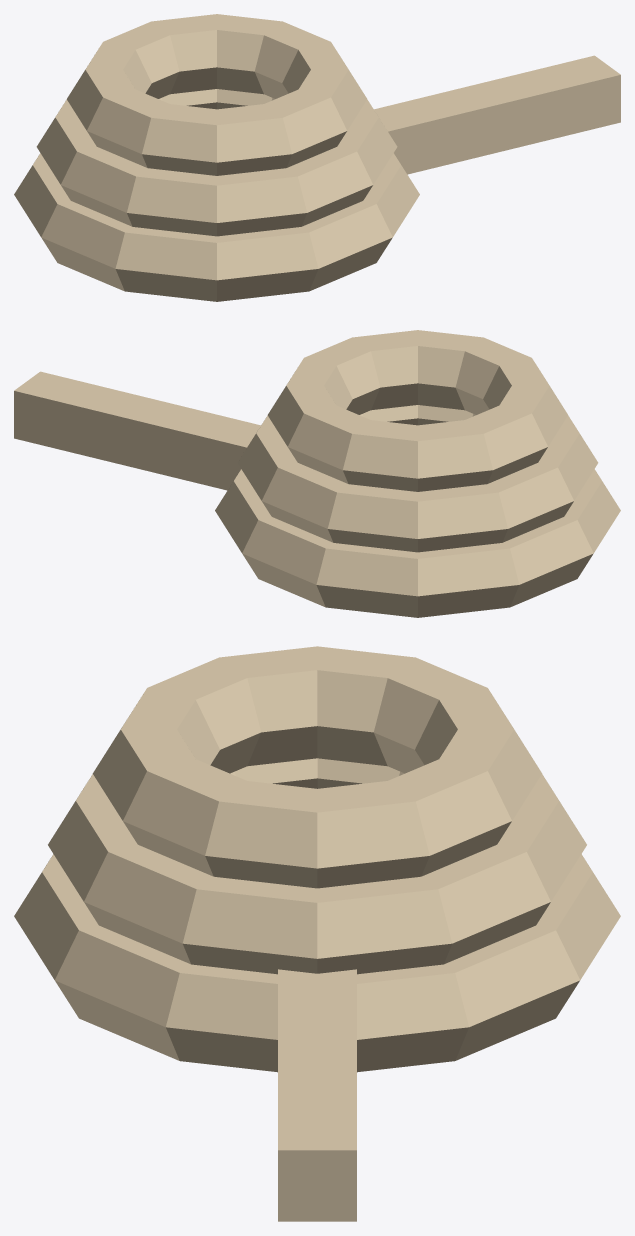
The model's file is ASTX_PROP_ROPECOIL.glb.
The picture shows the model from 3 angles, top to bottom: view 1: azimuth 30°, elevation 25°; view 2: azimuth 150°, elevation 25°; view 3: azimuth 270°, elevation 25°; orthographic projection. The views are drawn at different scales.
Parts seen in each view (by area): view 1: ASTX_PROP_ROPECOIL_loop2, ASTX_PROP_ROPECOIL_loop0, ASTX_PROP_ROPECOIL_loop1, ASTX_PROP_ROPECOIL_tail; view 2: ASTX_PROP_ROPECOIL_loop2, ASTX_PROP_ROPECOIL_loop0, ASTX_PROP_ROPECOIL_loop1, ASTX_PROP_ROPECOIL_tail; view 3: ASTX_PROP_ROPECOIL_loop2, ASTX_PROP_ROPECOIL_loop1, ASTX_PROP_ROPECOIL_loop0, ASTX_PROP_ROPECOIL_tail.
Part boxes in pixels (bbox=[...]): ASTX_PROP_ROPECOIL_loop2: bbox=[67, 14, 367, 175]; ASTX_PROP_ROPECOIL_loop0: bbox=[14, 153, 419, 301]; ASTX_PROP_ROPECOIL_loop1: bbox=[36, 89, 397, 236]; ASTX_PROP_ROPECOIL_tail: bbox=[374, 55, 620, 174]; ASTX_PROP_ROPECOIL_loop2: bbox=[267, 330, 567, 491]; ASTX_PROP_ROPECOIL_loop0: bbox=[215, 469, 620, 617]; ASTX_PROP_ROPECOIL_loop1: bbox=[237, 405, 598, 552]; ASTX_PROP_ROPECOIL_tail: bbox=[14, 371, 260, 490]; ASTX_PROP_ROPECOIL_loop2: bbox=[92, 646, 542, 888]; ASTX_PROP_ROPECOIL_loop1: bbox=[48, 758, 586, 974]; ASTX_PROP_ROPECOIL_loop0: bbox=[14, 854, 620, 1072]; ASTX_PROP_ROPECOIL_tail: bbox=[278, 969, 356, 1221].
Bounding box in the file's own units: 0.87 × 0.2266 × 0.54.
